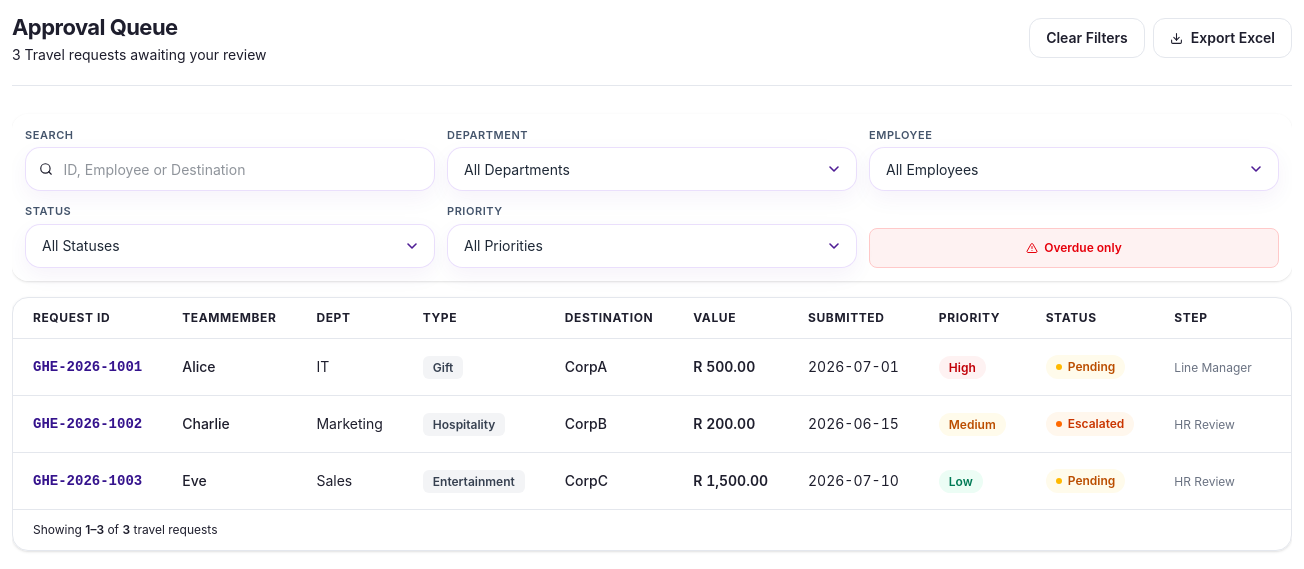
Scenario: ApprovalQueue › shows empty state when no declarations match filters
Type "ZZZ_NONEXISTENT" into the field with placeholder "ID, Employee or Destination".
click(230, 169); type("ZZZ_NONEXISTENT")  # box [25,147,435,191]
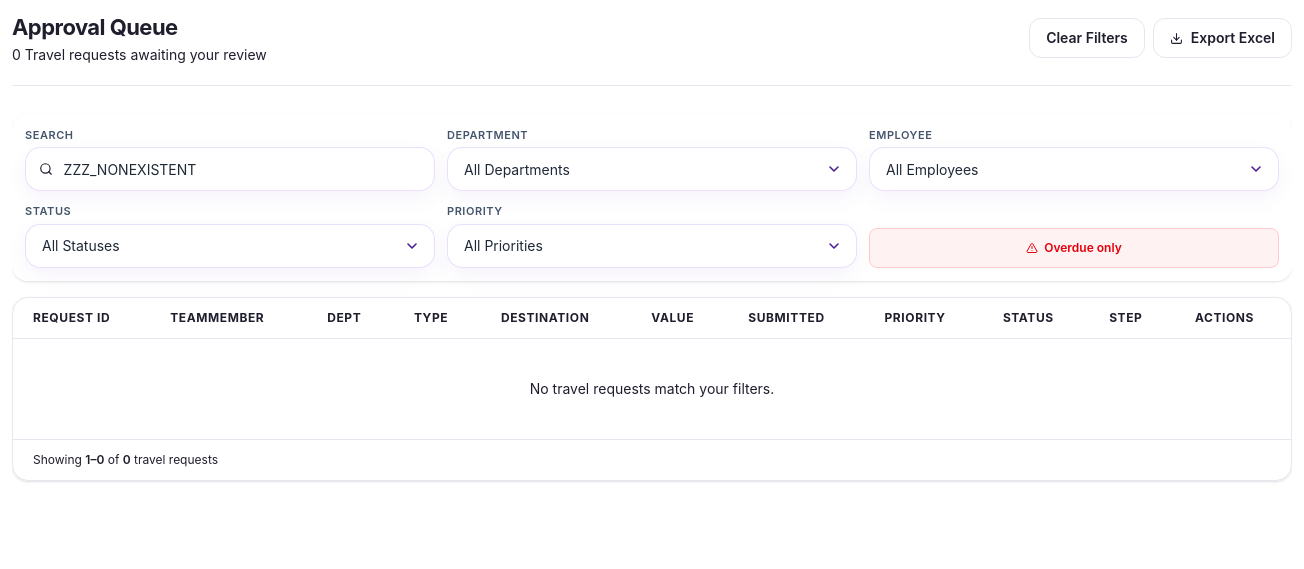
Check: the text "Showing 1–0 of 0 travel requests" is shown, box [13,439,1291,480]
